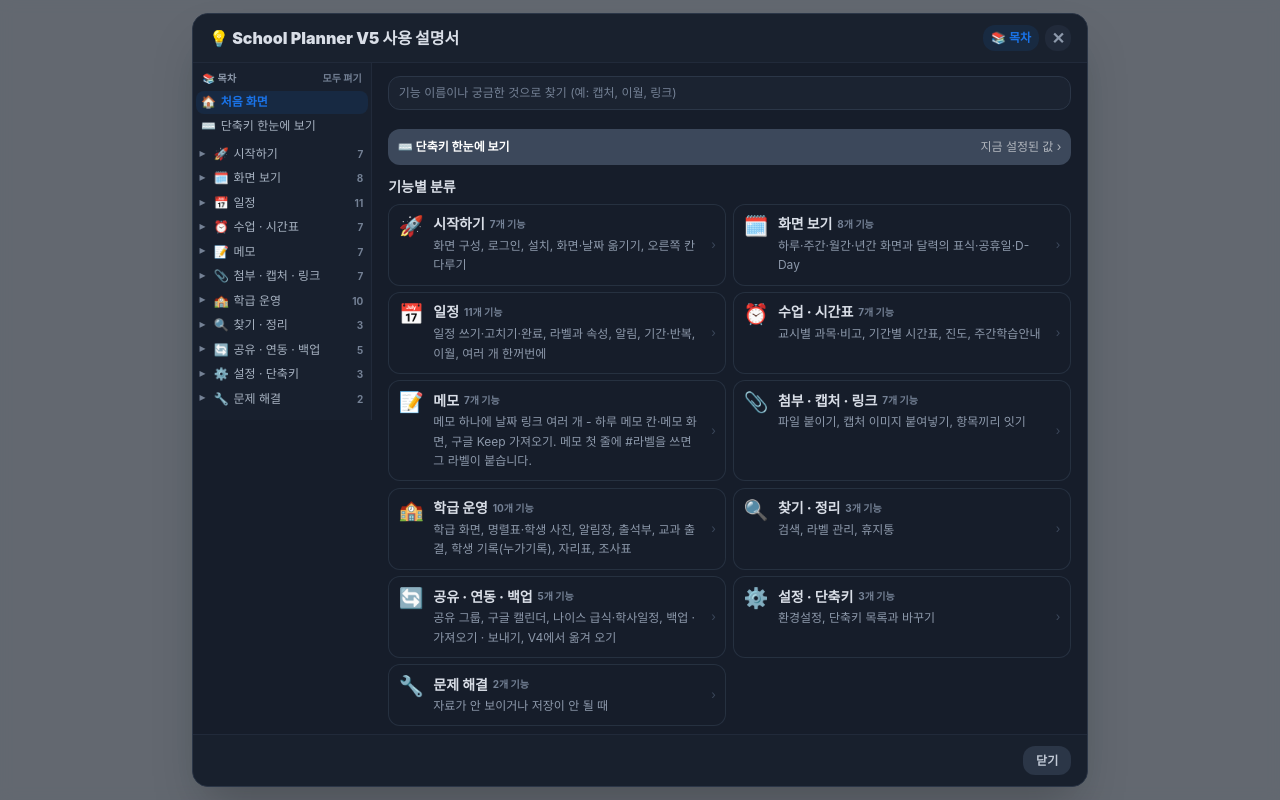
Test case: 사용 설명서 - 기능별 분류 → 세부 기능 → 설명·사용 예 › 분류를 누르면 그 분류의 세부 기능 목록만 나온다
Click the button "📎 첨부 · 캡처 · 링크 7개 기능 파일 붙이기, 캡처 이미지 붙여넣기, 항목끼리 잇기 ›": (902, 431) x1=733 y1=380 x2=1071 y2=481
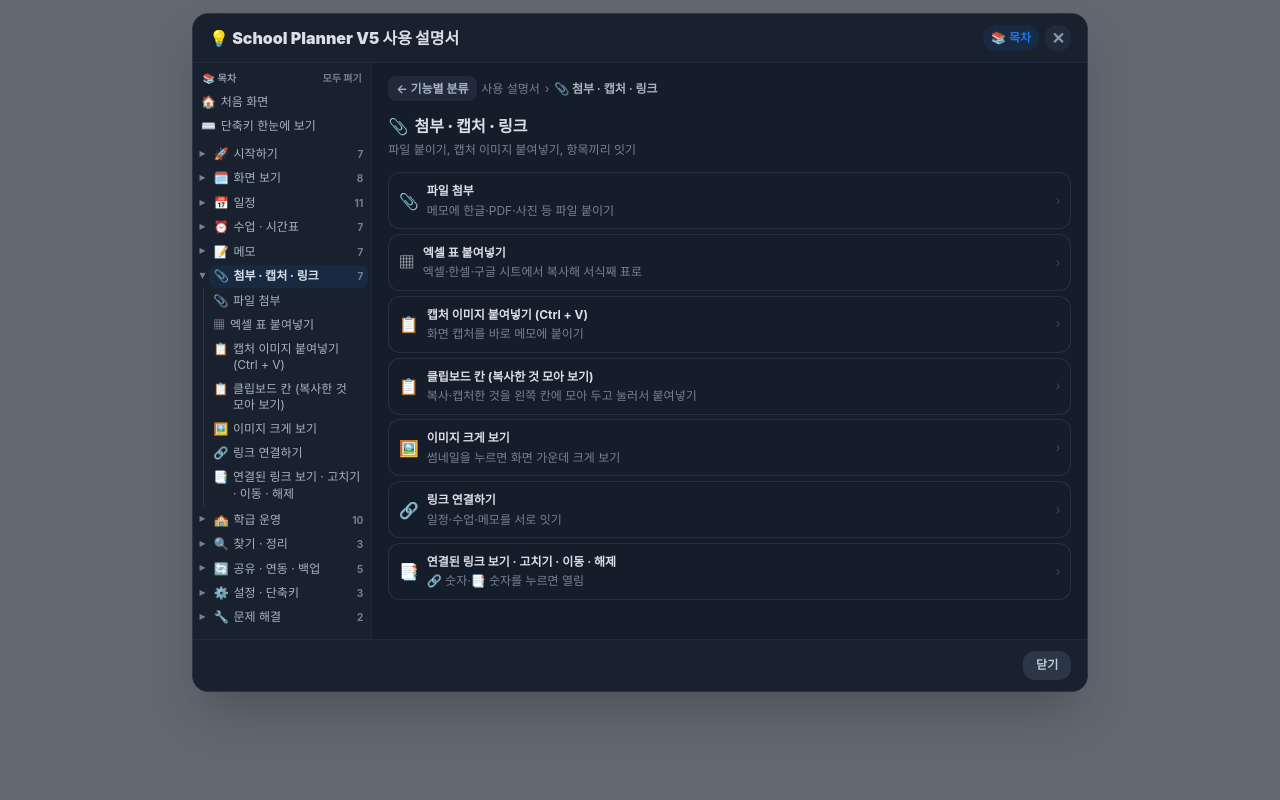
Check: the heading "📎 첨부 · 캡처 · 링크" is shown, box x1=388 y1=116 x2=528 y2=136
